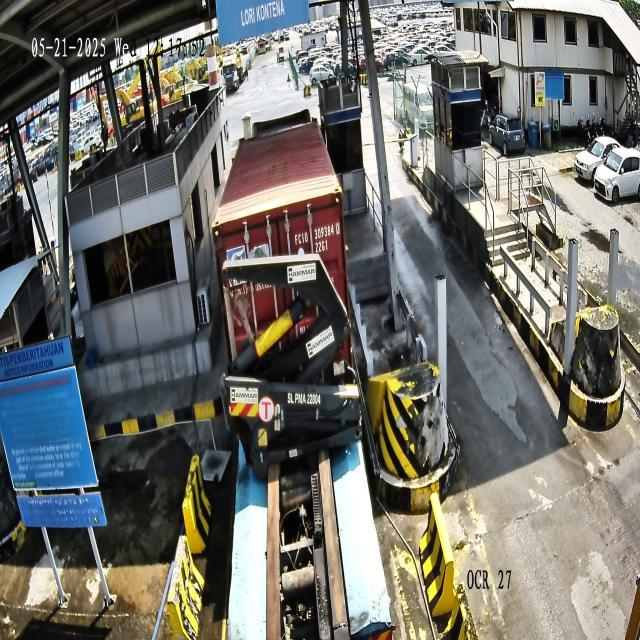ISO: (315, 238, 328, 254)
container_number: (294, 220, 341, 247)
